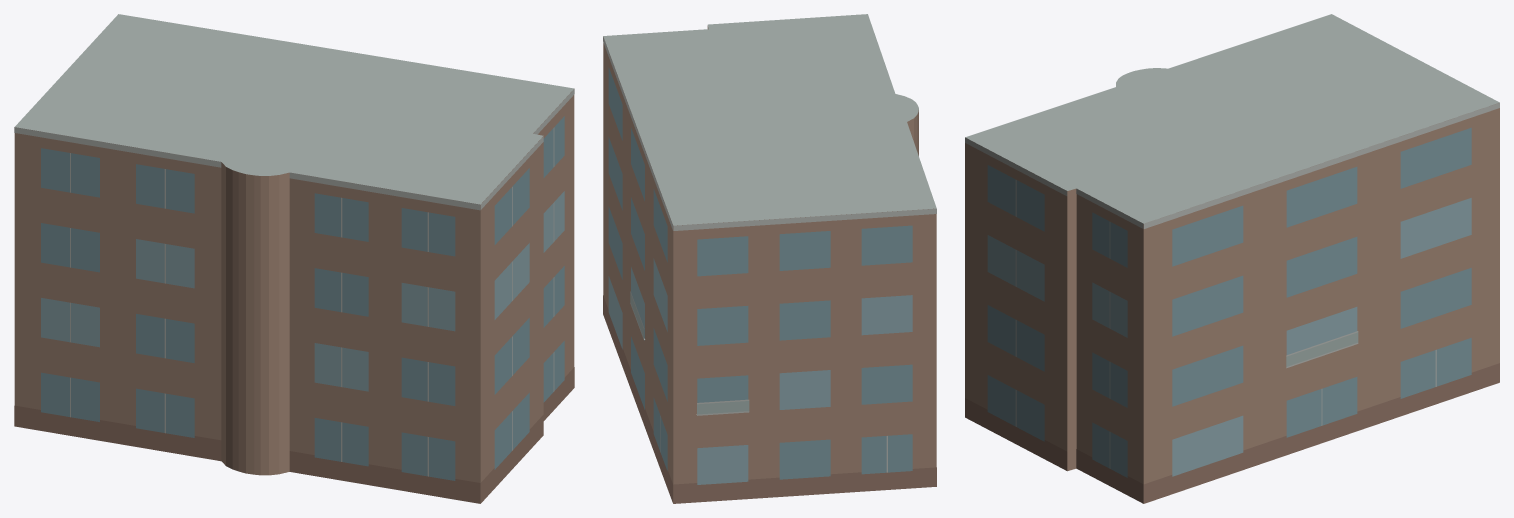
The model's file is survey-upis-32895172.glb.
The picture shows the model from 3 angles, left to right: view 1: azimuth 30°, elevation 25°; view 2: azimuth 150°, elevation 25°; view 3: azimuth 270°, elevation 25°; orthographic projection. The views are drawn at different scales.
Parts seen in each view (by area): view 1: survey-upis-32895172.tmp; view 2: survey-upis-32895172.tmp; view 3: survey-upis-32895172.tmp.
Part boxes in pixels (bbox=[...]): survey-upis-32895172.tmp: bbox=[14, 14, 574, 503]; survey-upis-32895172.tmp: bbox=[603, 14, 936, 503]; survey-upis-32895172.tmp: bbox=[965, 14, 1499, 503].
Size of the model in its own units: 20.07 by 12.49 by 21.62.
